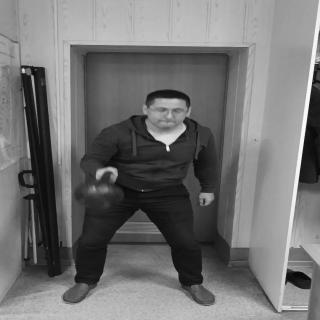kettlebell: (77, 171, 127, 207)
